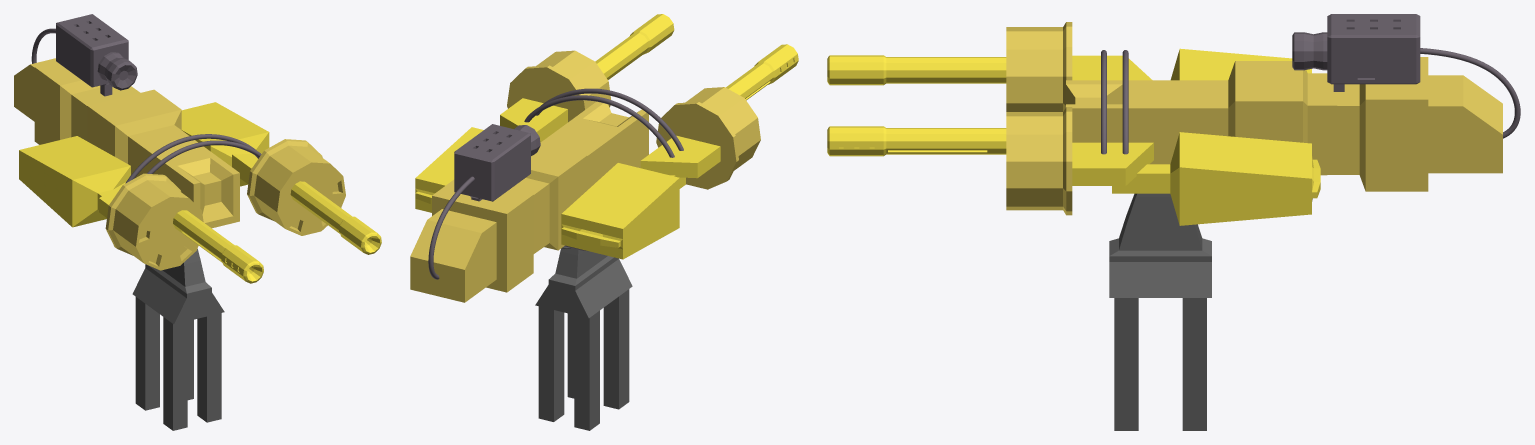
Rendered from Gun3.fbx.
The picture shows the model from 3 angles, left to right: view 1: azimuth 30°, elevation 25°; view 2: azimuth 150°, elevation 25°; view 3: azimuth 270°, elevation 25°; orthographic projection. The views are drawn at different scales.
Visible parts, largest first — view 1: Cube, Cylinder, Cube.004, Cube.001, Cylinder.001, Cube.002, NurbsPath.002, NurbsPath.001; view 2: Cube, Cube.001, Cube.004, Cylinder, Cube.002, Cylinder.001, NurbsPath.002, NurbsPath.001, NurbsPath; view 3: Cube, Cube.001, Cube.004, Cylinder, Cylinder.001, Cube.002, NurbsPath, NurbsPath.002.
Part boxes in pixels (x1,y1,x2,y2): Cube: (14, 58, 239, 228); Cylinder: (105, 139, 345, 270); Cube.004: (132, 249, 224, 430); Cube.001: (19, 102, 269, 227); Cylinder.001: (173, 181, 381, 283); Cube.002: (56, 14, 137, 96); NurbsPath.002: (125, 134, 258, 183); NurbsPath.001: (147, 140, 261, 173); Cube: (410, 101, 648, 302); Cube.001: (415, 98, 720, 259); Cube.004: (535, 246, 632, 430); Cylinder: (507, 50, 760, 189); Cube.002: (454, 124, 540, 201); Cylinder.001: (595, 14, 798, 100); NurbsPath.002: (524, 95, 674, 157); NurbsPath.001: (536, 88, 683, 150); NurbsPath: (428, 176, 474, 279); Cube: (1066, 57, 1502, 191); Cube.001: (1072, 48, 1320, 225); Cube.004: (1109, 193, 1211, 430); Cylinder: (1006, 22, 1072, 215); Cylinder.001: (827, 55, 1006, 156); Cube.002: (1292, 14, 1420, 91); NurbsPath: (1420, 48, 1520, 138); NurbsPath.002: (1122, 50, 1128, 154).
Size of the model in its own units: 0.8891 by 1.24 by 1.99.
